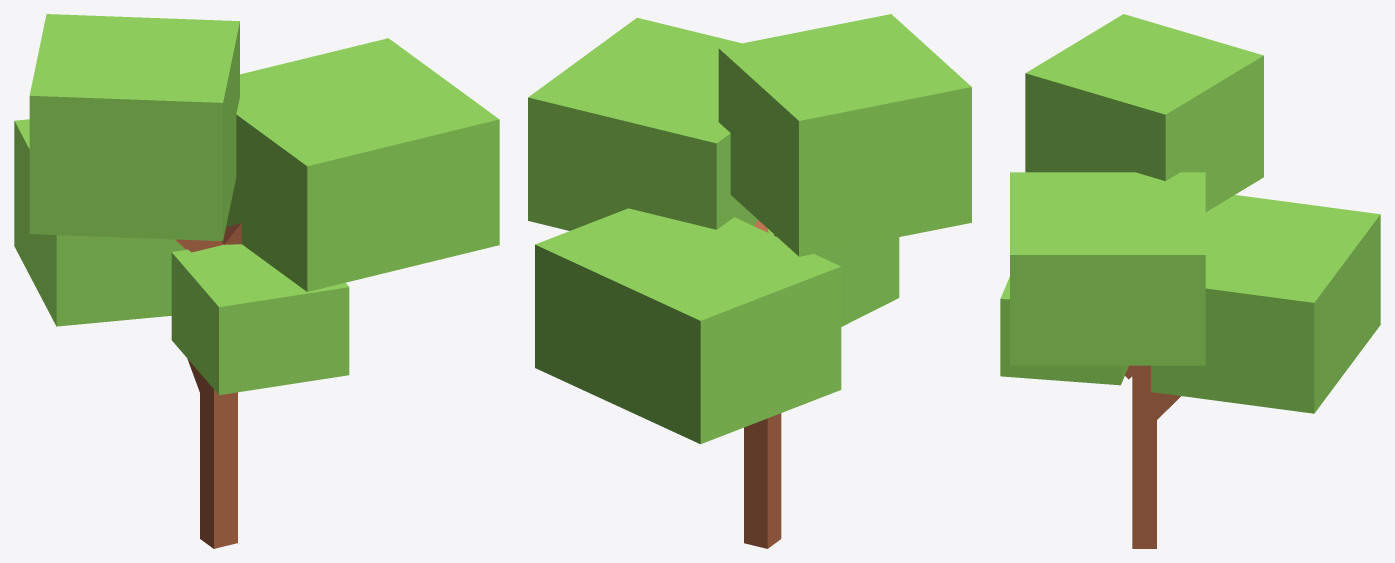
Rendered from tree.gltf.
The picture shows the model from 3 angles, left to right: view 1: azimuth 30°, elevation 25°; view 2: azimuth 150°, elevation 25°; view 3: azimuth 270°, elevation 25°; orthographic projection. The views are drawn at different scales.
Parts seen in each view (by area): view 1: leaves (×4), trunk; view 2: leaves (×4), trunk; view 3: leaves (×4), trunk (×2).
Part boxes in pixels (x1,y1,x2,y2): leaves (×4): (14, 14, 499, 395); trunk: (200, 373, 237, 548); leaves (×4): (528, 14, 971, 444); trunk: (744, 413, 781, 548); leaves (×4): (1000, 14, 1380, 413); trunk (×2): (1132, 365, 1180, 548).
Bounding box in the file's own units: 2.11 × 2.5 × 1.94.
Materials: 2 (2 with a texture image).
